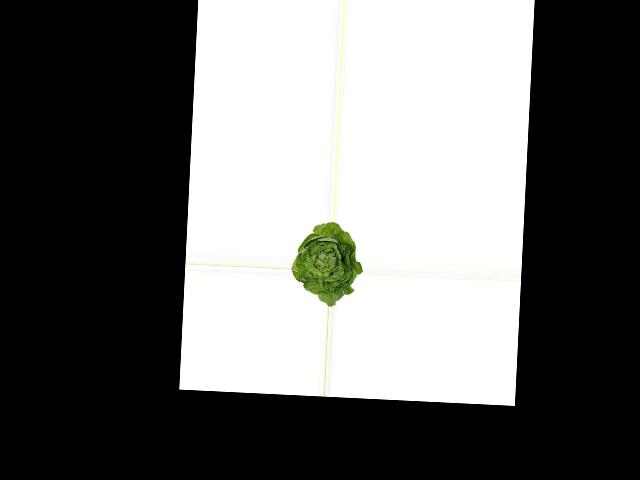lettuce: (290, 219, 365, 305)
